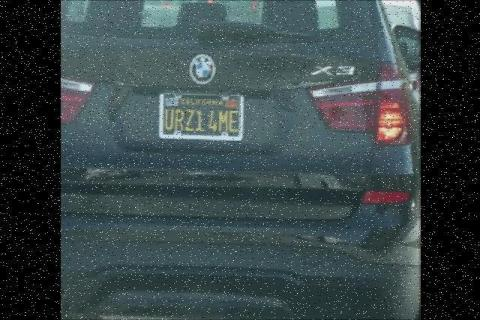LicensePlate: (160, 86, 243, 140)
